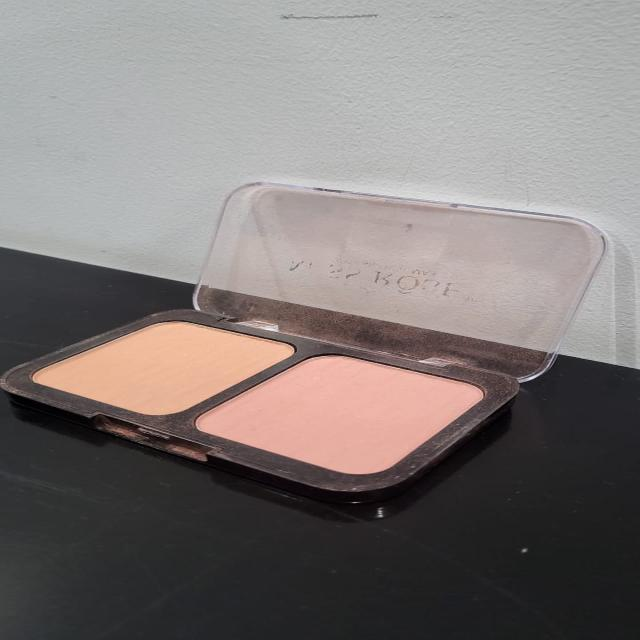blush: (190, 347, 490, 485)
powder: (9, 316, 303, 428)
